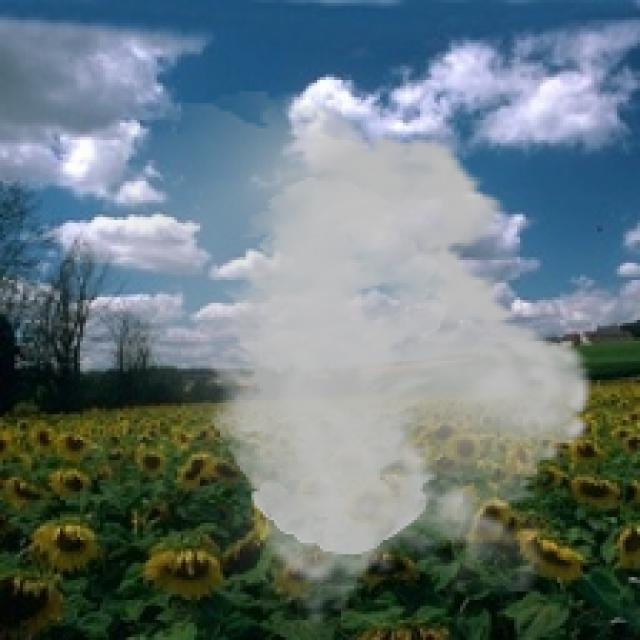smoke: (51, 91, 614, 626)
